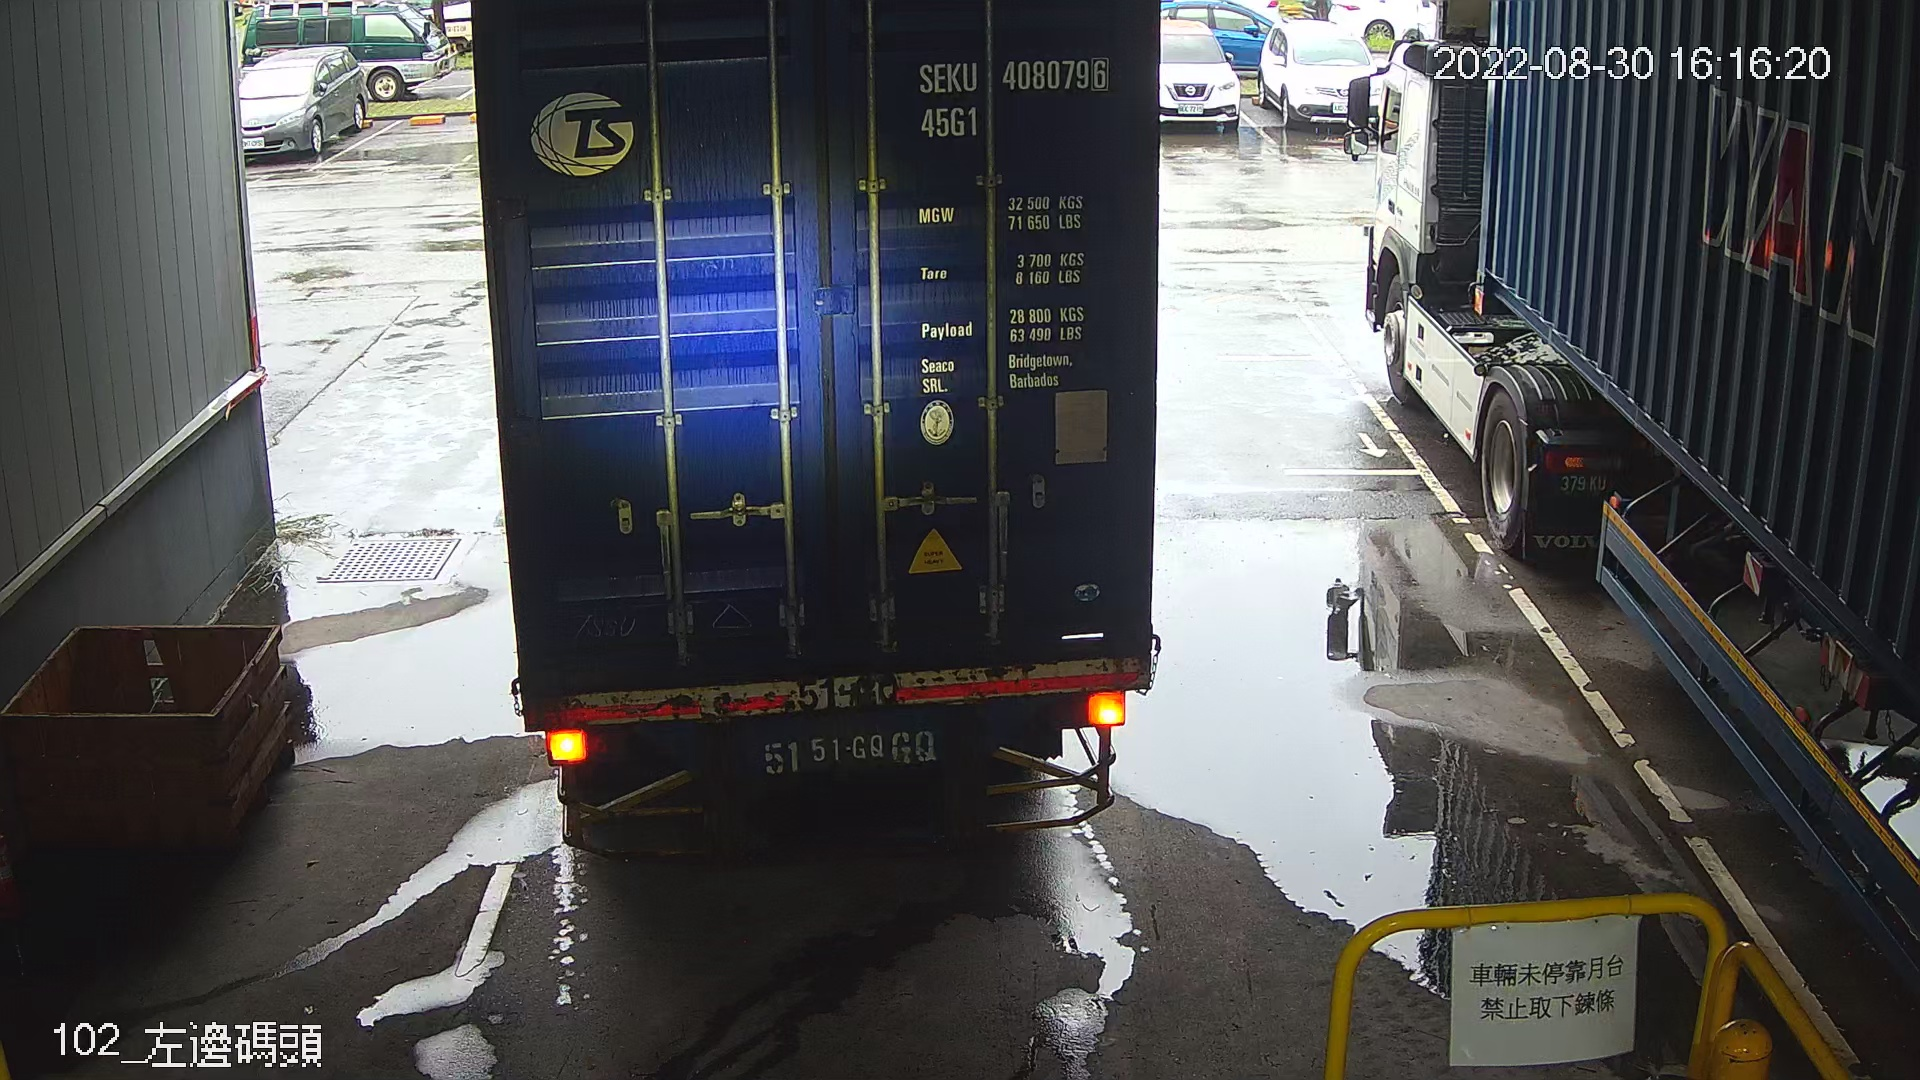container: (907, 49, 1117, 152)
